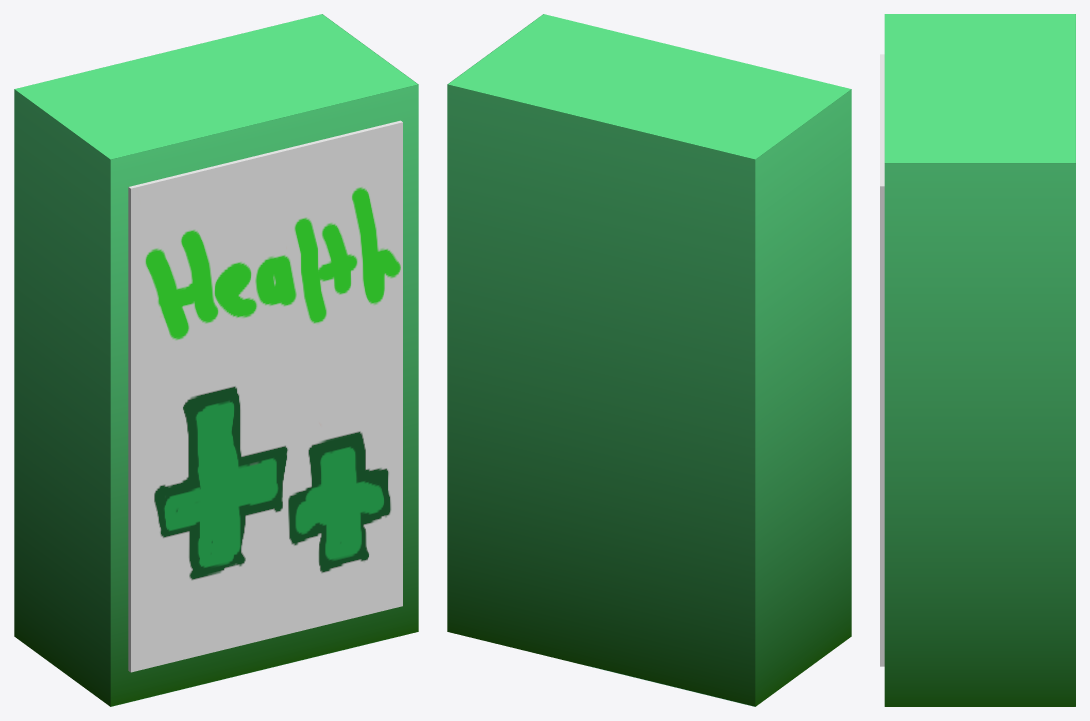
Rendered from Health Upgrade.glb.
The picture shows the model from 3 angles, left to right: view 1: azimuth 30°, elevation 25°; view 2: azimuth 150°, elevation 25°; view 3: azimuth 270°, elevation 25°; orthographic projection.
Visible parts, largest first — view 1: Cube.001, Cube; view 2: Cube; view 3: Cube, Cube.001.
Part boxes in pixels (<box>): Cube.001: <box>128,120,402,672</box>; Cube: <box>14,14,418,706</box>; Cube: <box>447,14,851,706</box>; Cube: <box>884,14,1075,706</box>; Cube.001: <box>880,54,884,666</box>.
Bounding box in the file's own units: 1.07 × 1.81 × 0.5908.
Materials: 2 (2 with a texture image).
